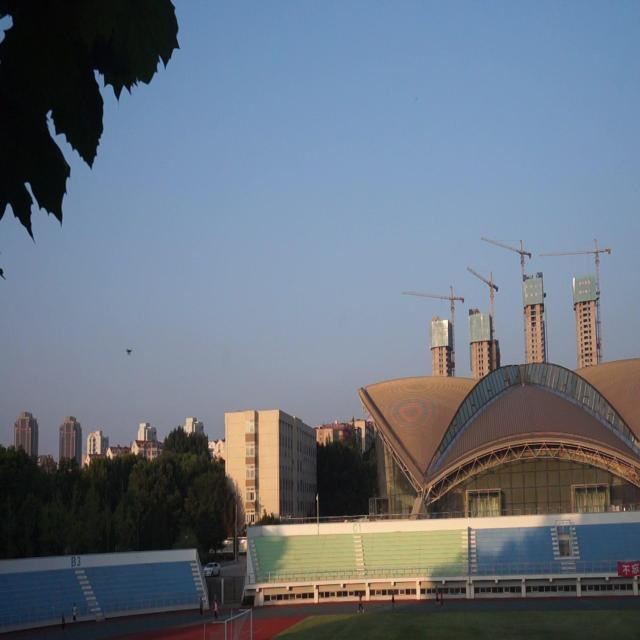drone: (124, 344, 134, 358)
